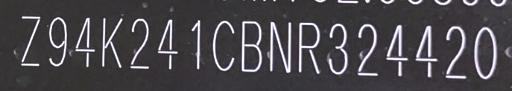letter: (266, 19, 296, 76), (294, 19, 324, 76), (470, 25, 500, 80), (237, 17, 265, 74), (382, 22, 410, 79), (412, 24, 440, 81), (442, 22, 468, 81), (72, 13, 98, 70), (98, 13, 124, 70), (354, 21, 380, 78), (17, 12, 43, 67), (210, 18, 236, 73), (156, 17, 180, 74), (324, 21, 348, 76), (128, 15, 150, 72), (46, 15, 68, 66), (186, 17, 202, 72)
